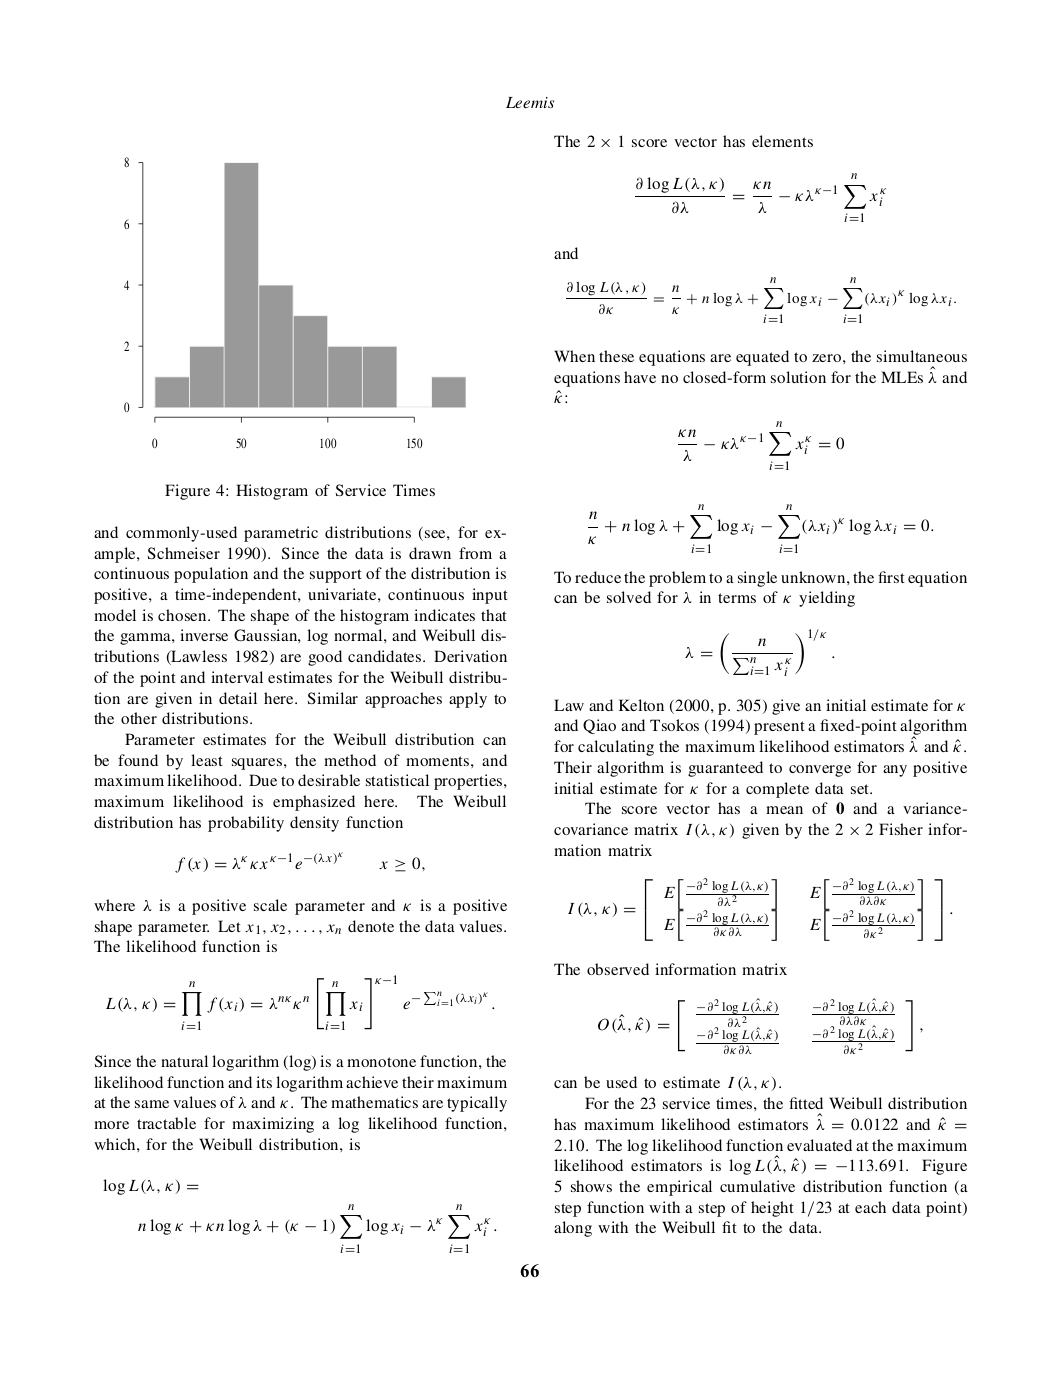figure: (124, 157, 465, 448)
formula: (568, 877, 952, 941), (106, 974, 494, 1030), (598, 997, 922, 1055), (566, 276, 955, 323), (138, 1204, 496, 1252), (588, 504, 933, 552), (635, 172, 886, 222), (678, 421, 844, 469), (685, 629, 834, 676), (175, 851, 424, 873), (103, 1178, 198, 1195)
